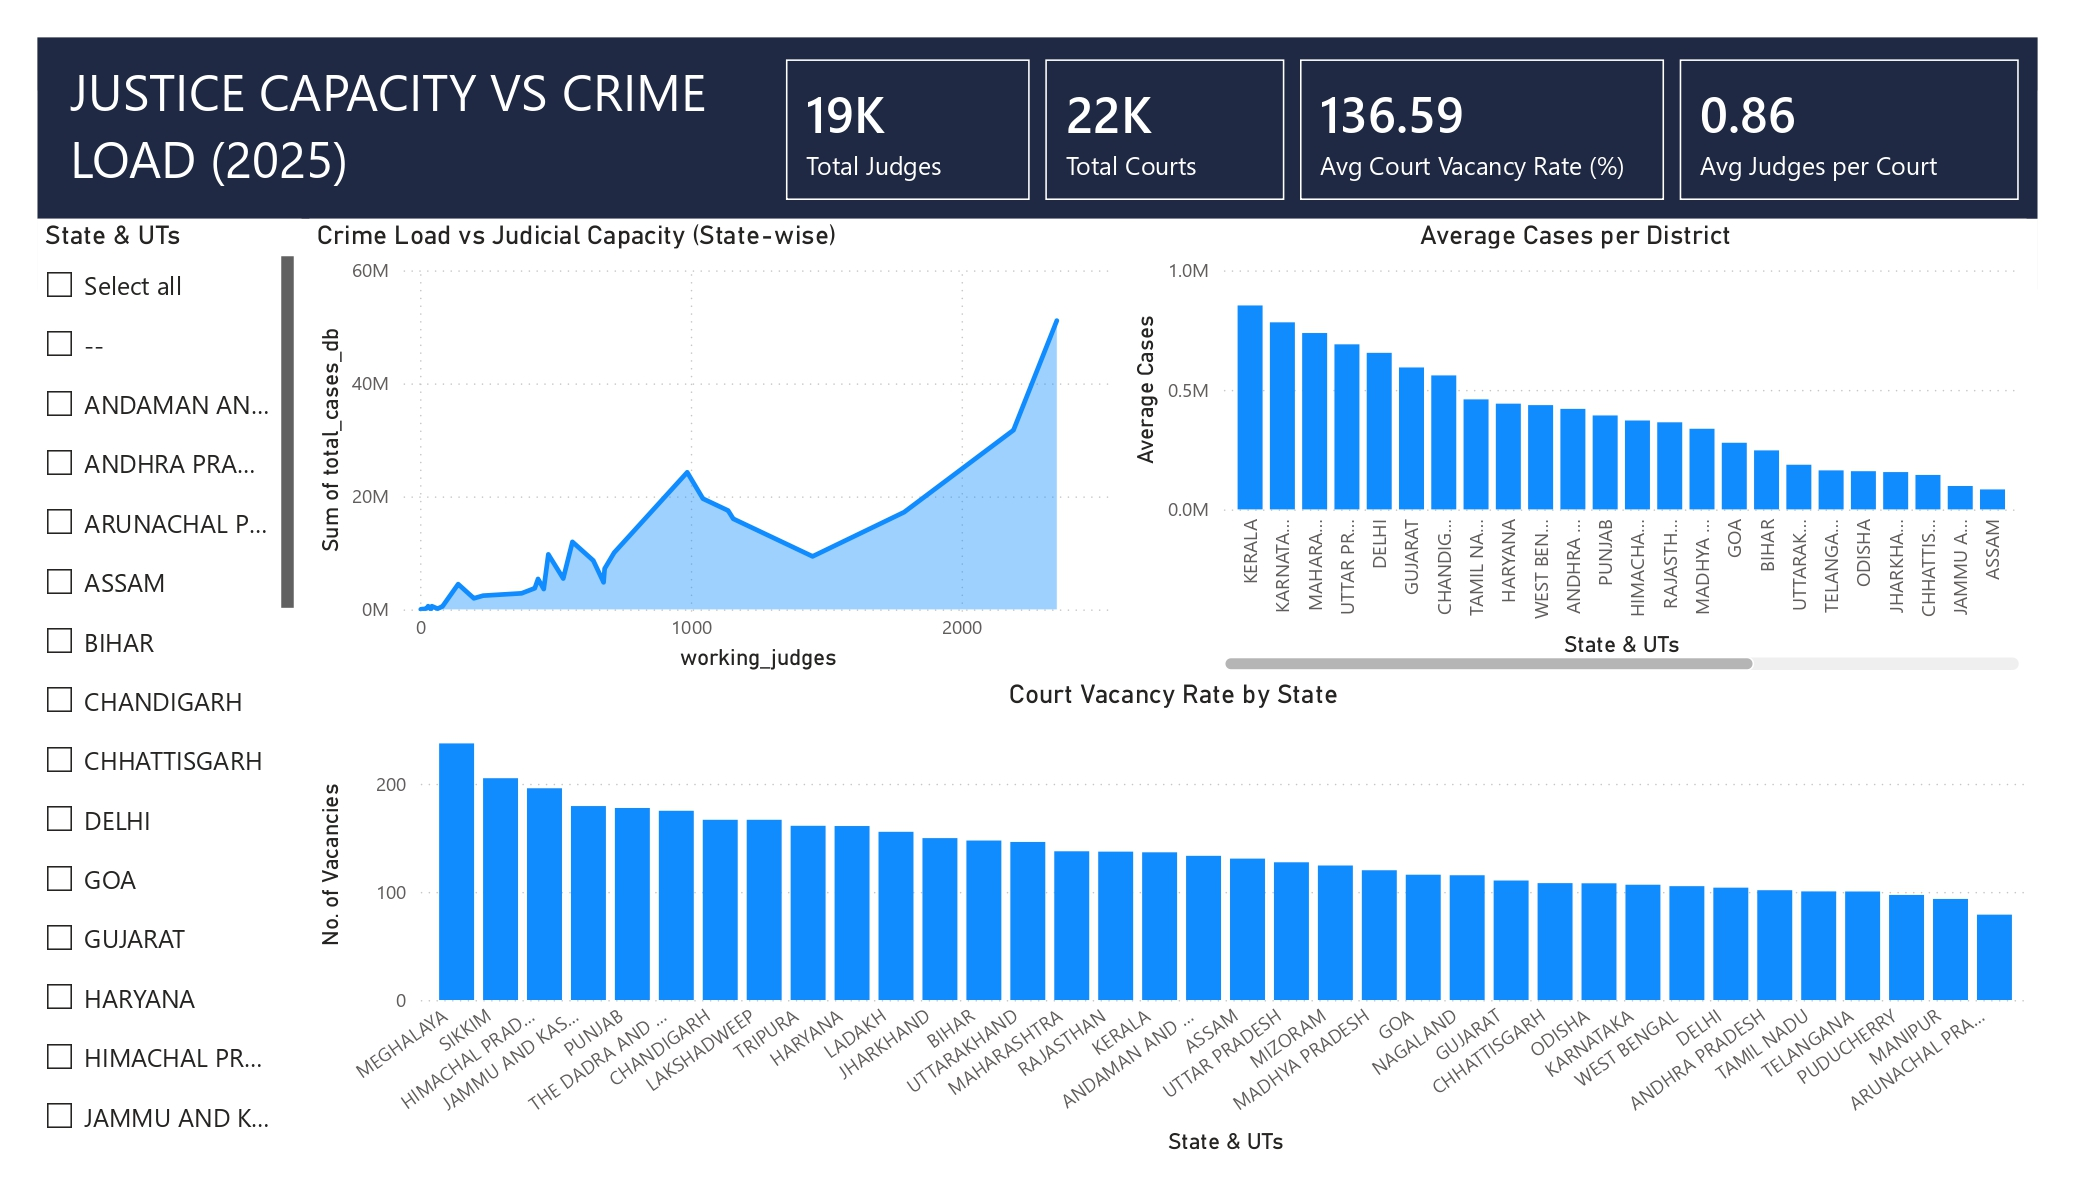

Layout of this report page (visuals, bound fields, positions):
{"tool":"powerbi","page":{"name":"Justice Capacity vs Crime Load (2025)","canvas":[1280,720],"ordinal":3},"visuals":[{"type":"shape","box":[0,0,1280,115.7],"z":0},{"type":"listSlicer","fields":{"Values":["justice_capacity_in_India_2025.state_ut"]},"box":[0,115.7,168.6,604.3],"z":1000},{"type":"columnChart","title":"Court Vacancy Rate by State","fields":{"Category":["justice_capacity_in_India_2025.state_ut"],"Y":["Sum(justice_capacity_in_India_2025.court_vacancy_rate_pct)"]},"box":[174.3,410,1105.7,310],"z":2000},{"type":"clusteredColumnChart","title":"Average Cases per District","fields":{"Category":["justice_capacity_in_India_2025.state_ut"],"Y":["Avg(justice_capacity_in_India_2025.cases_per_district)"]},"box":[695.7,115.7,577.1,294.3],"z":3000},{"type":"cardVisual","fields":{"Data":["justice_capacity_in_India_2025.Total Judges"]},"box":[474.3,8.6,165.7,100],"z":4000},{"type":"textbox","box":[15.7,7.1,420,100],"z":5000},{"type":"cardVisual","fields":{"Data":["justice_capacity_in_India_2025.Total Courts"]},"box":[640,8.6,162.9,100],"z":6000},{"type":"stackedAreaChart","title":"Crime Load vs Judicial Capacity (State-wise)","fields":{"Category":["justice_capacity_in_India_2025.working_judges"],"Y":["Sum(justice_capacity_in_India_2025.total_cases_db)"]},"box":[174.3,115.7,521.4,294.3],"z":7000},{"type":"cardVisual","fields":{"Data":["justice_capacity_in_India_2025.Avg Court Vacancy Rate (%)"]},"box":[802.9,8.6,242.9,100],"z":8000},{"type":"cardVisual","fields":{"Data":["justice_capacity_in_India_2025.Avg Judges per Court"]},"box":[1045.7,8.6,227.1,100],"z":9000}]}

Visuals, with their boxes on the page's 1280x720 design canvas (x1, y1, x2, y2). These are canvas units, not pixel positions in the 2075x1200 screenshot, which may show the page scaled, cropped or inside an application window:
shape: <box>0,0,1280,116</box>
listSlicer - justice_capacity_in_India_2025.state_ut: <box>0,116,169,720</box>
"Court Vacancy Rate by State" columnChart: <box>174,410,1280,720</box>
"Average Cases per District" clusteredColumnChart: <box>696,116,1273,410</box>
cardVisual - justice_capacity_in_India_2025.Total Judges: <box>474,9,640,109</box>
textbox: <box>16,7,436,107</box>
cardVisual - justice_capacity_in_India_2025.Total Courts: <box>640,9,803,109</box>
"Crime Load vs Judicial Capacity (State-wise)" stackedAreaChart: <box>174,116,696,410</box>
cardVisual - justice_capacity_in_India_2025.Avg Court Vacancy Rate (%): <box>803,9,1046,109</box>
cardVisual - justice_capacity_in_India_2025.Avg Judges per Court: <box>1046,9,1273,109</box>
